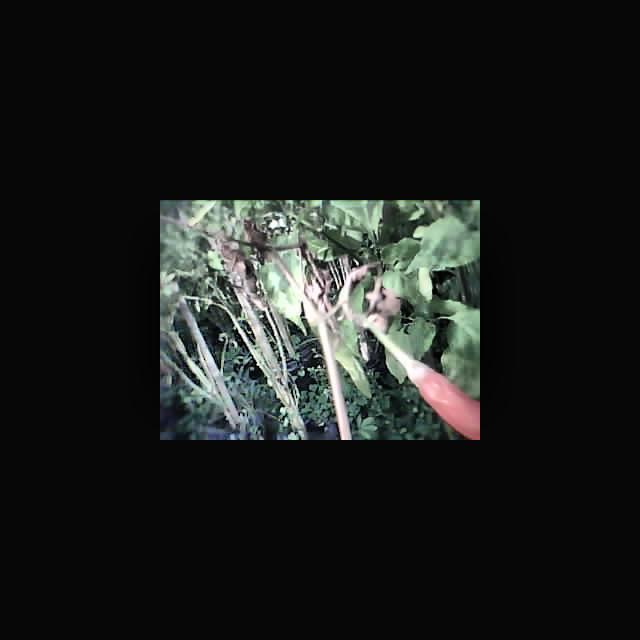Cabai: (408, 358, 480, 439)
